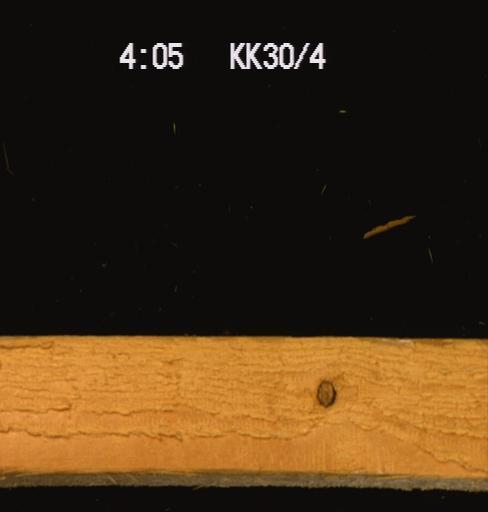dry_knot: (313, 375, 337, 410)
